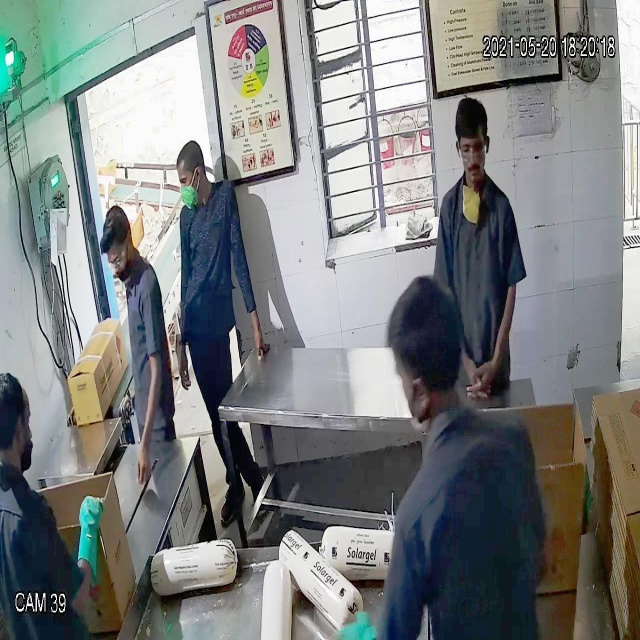Gafas: (455, 137, 490, 164), (102, 243, 129, 275)
